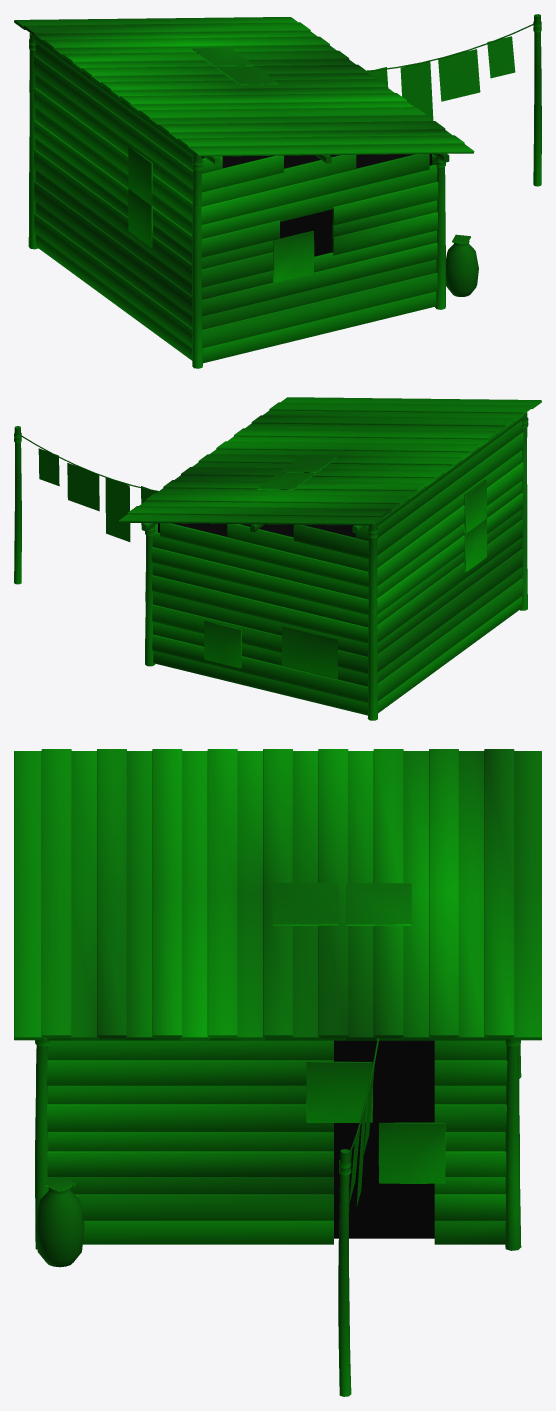
File: cabin_patched.glb
3 renders of one model, top to bottom at view 1: azimuth 30°, elevation 25°; view 2: azimuth 150°, elevation 25°; view 3: azimuth 270°, elevation 25°, orthographic. The views are drawn at different scales.
Visible parts, largest first — view 1: cabin_patched; view 2: cabin_patched; view 3: cabin_patched.
Part boxes in pixels (x1=…): cabin_patched: x1=14, y1=14, x2=541, y2=368; cabin_patched: x1=14, y1=397, x2=541, y2=720; cabin_patched: x1=14, y1=749, x2=541, y2=1396.
Size of what is drawn, in the model's own units: 6.81 by 3.22 by 4.72.
